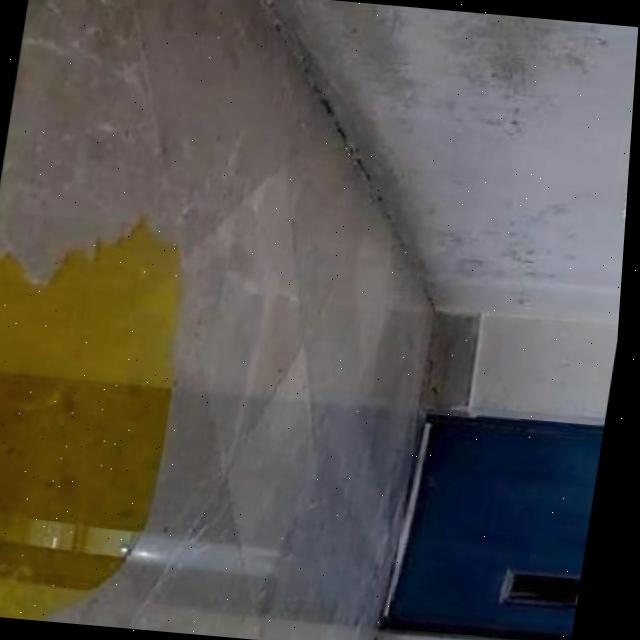spillage: (0, 223, 183, 620)
